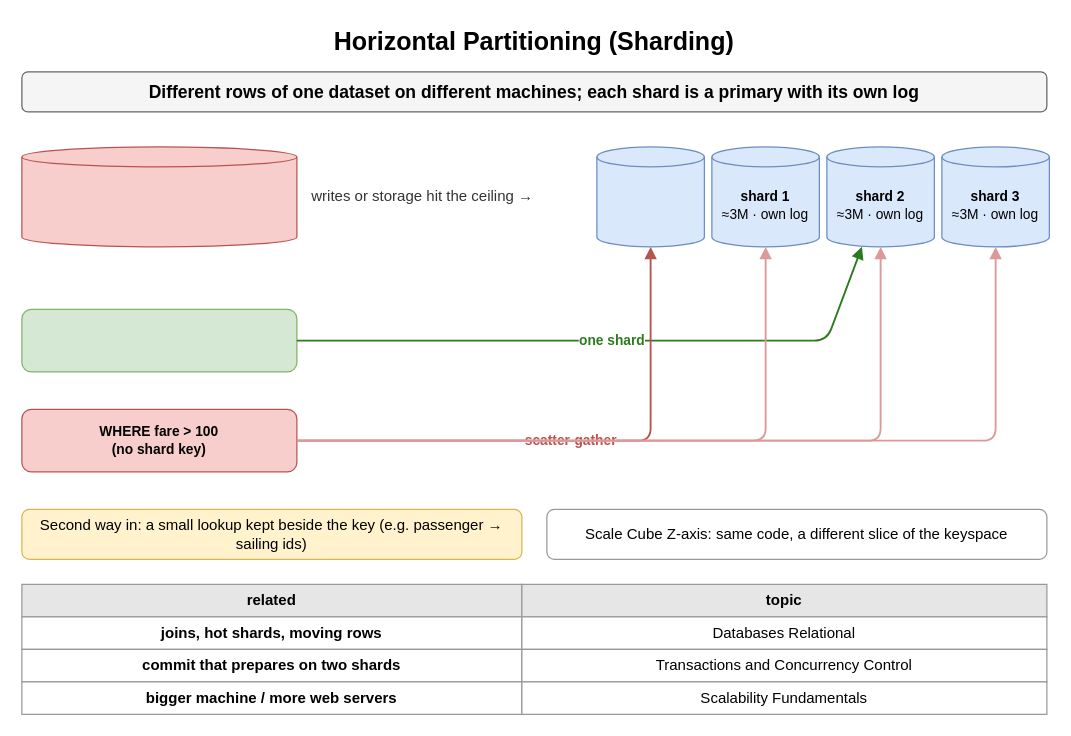
The diagram is 1071 pixels wide and 736 high, and some of its shapes have lost their labels. The centre of each missing label's shape, as x and y in pixels:
"one primary 12 million bookings · one log" goes at (159,196).
"shard 0 ≈3M · own log" goes at (650,196).
"WHERE sailing_id = 42 (carries the shard key)" goes at (159,340).
